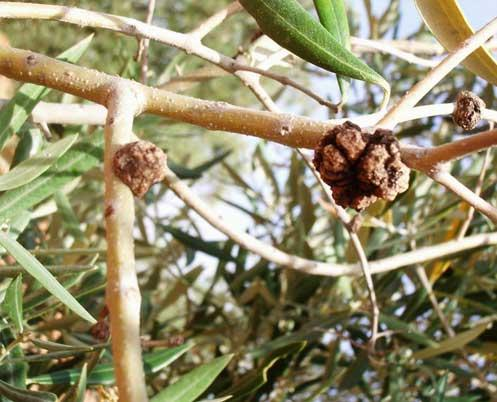Tuberculosis: (307, 117, 416, 213), (110, 132, 175, 201), (448, 88, 487, 131)
